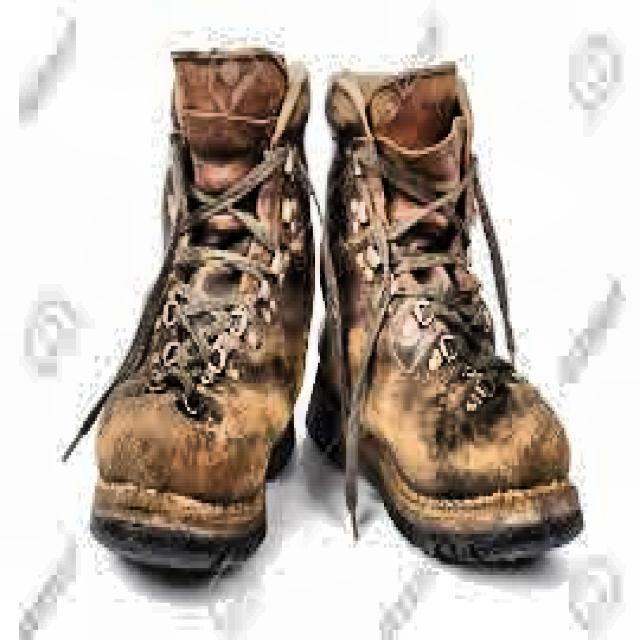shoes: (47, 7, 592, 589)
